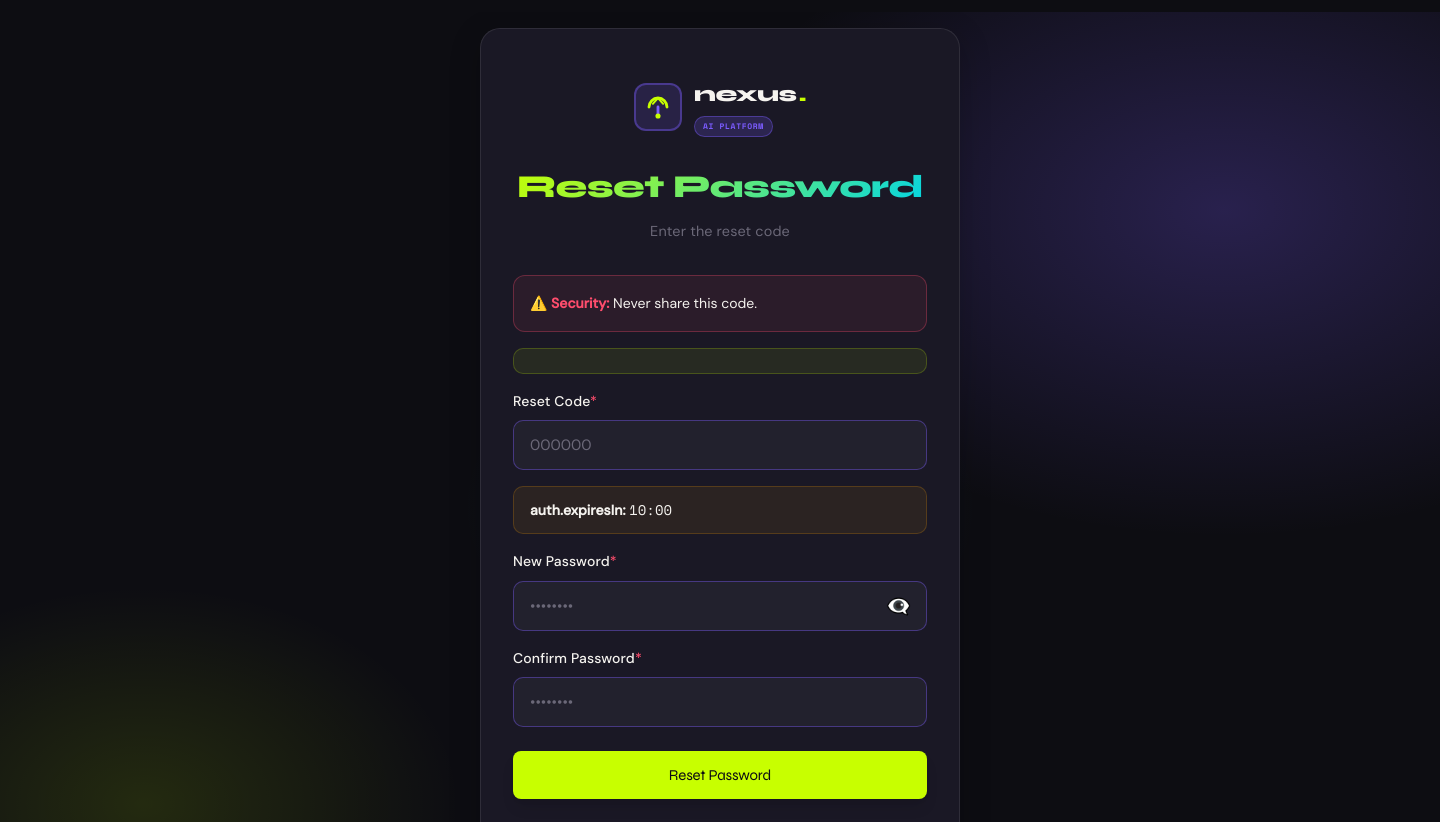
Test case: ResetPasswordPage › displays error for invalid code format
Type "12345" into the field labelled "Reset Code*" at (720, 445), box [513,420,927,470]
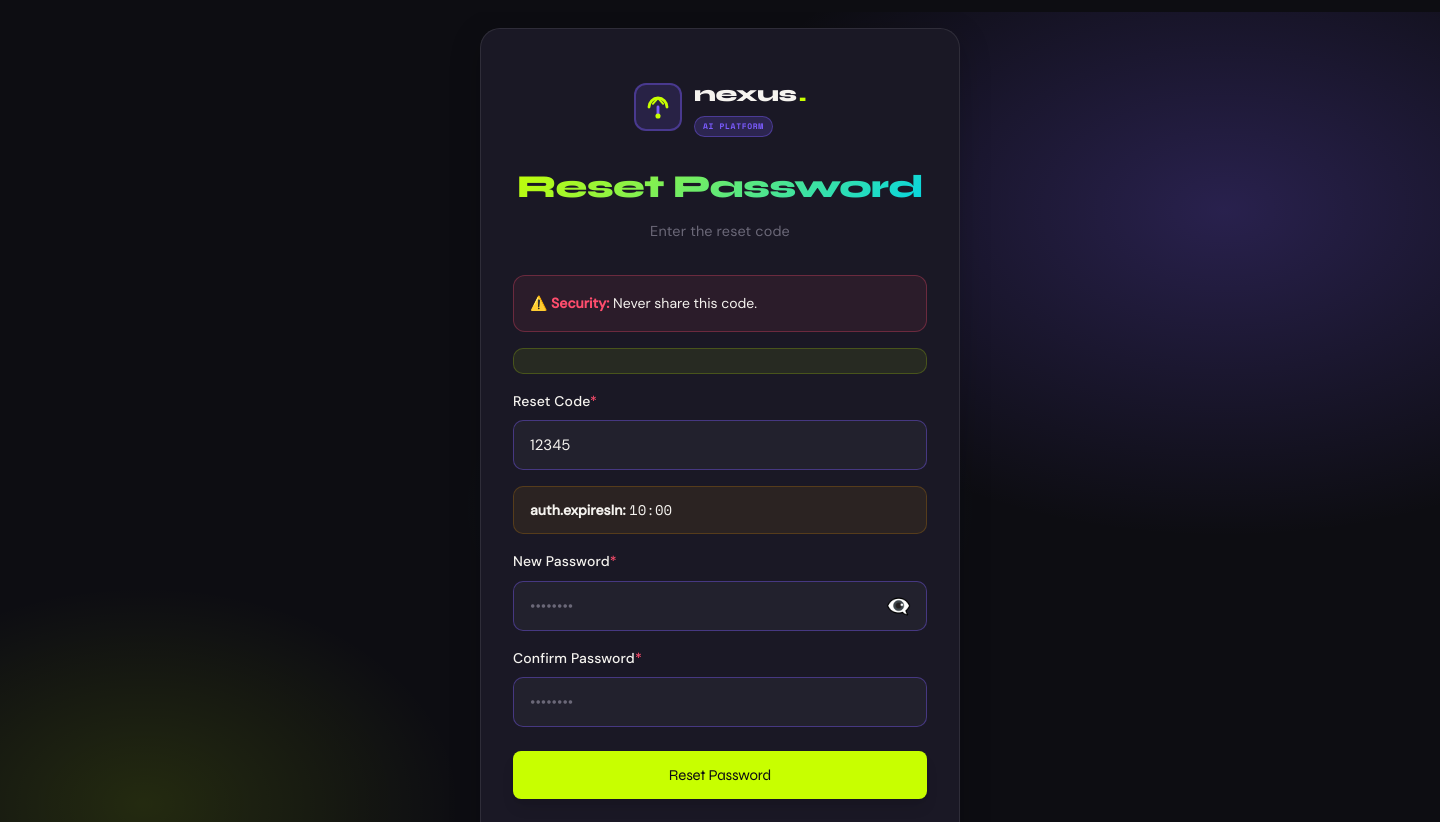
Type "NewPass123!" into the password field labelled "New Password*" at (720, 606), box [513,581,927,631]
(page scrolled)
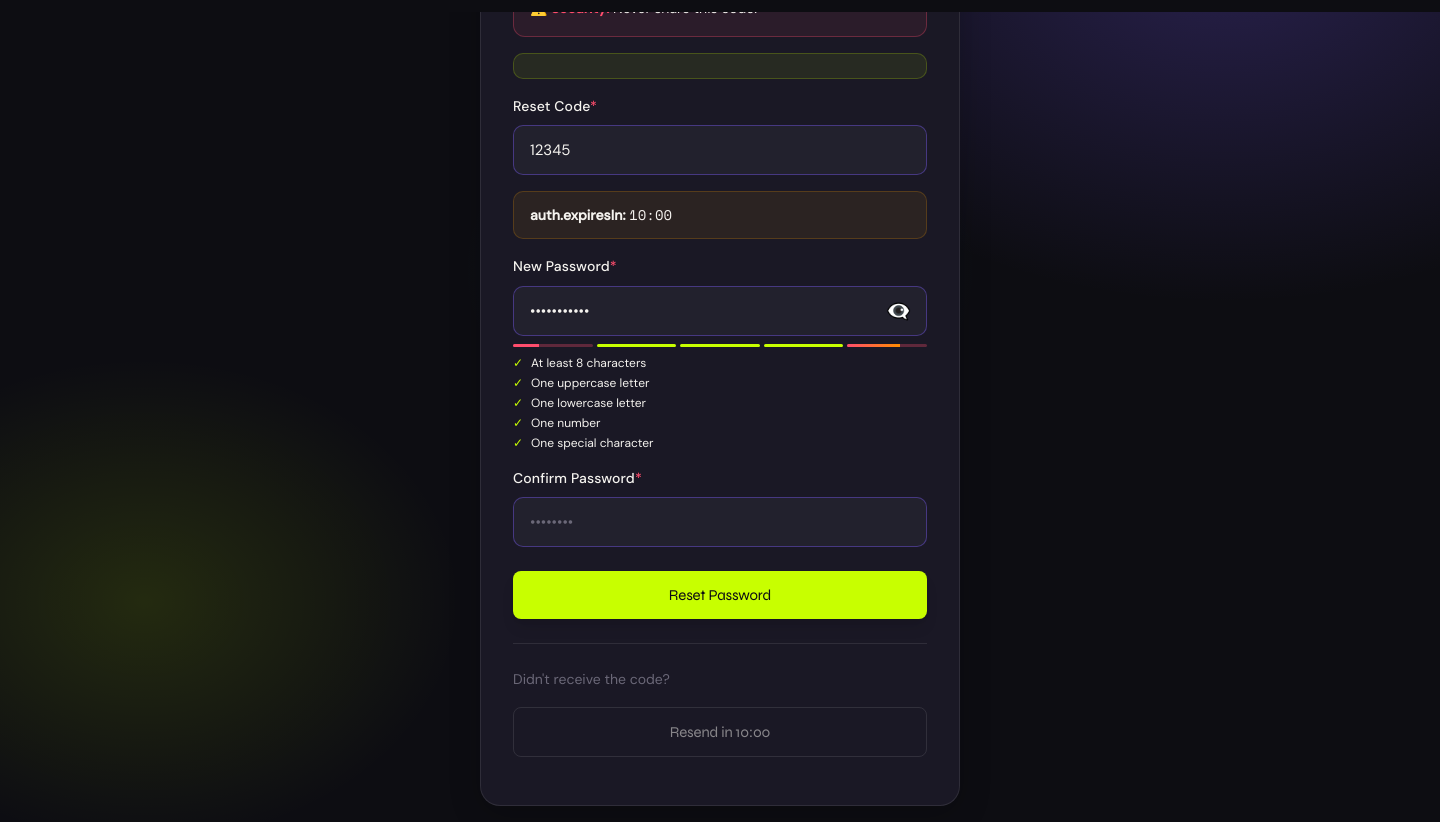
Type "NewPass123!" into the password field labelled "Confirm Password*" at (720, 522), box [513,497,927,547]
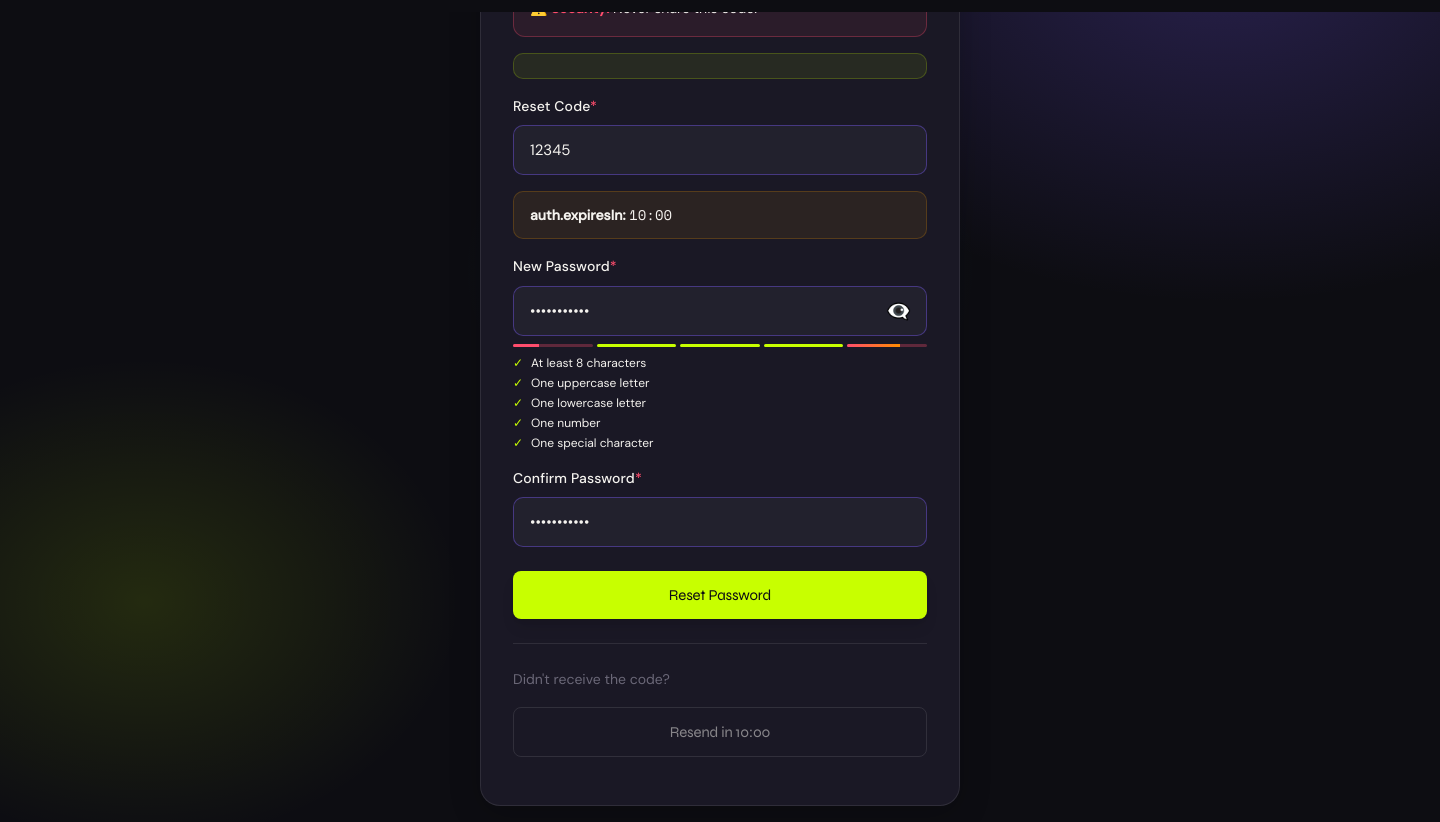
Click the button "Reset Password" at (720, 595), box [513,571,927,619]
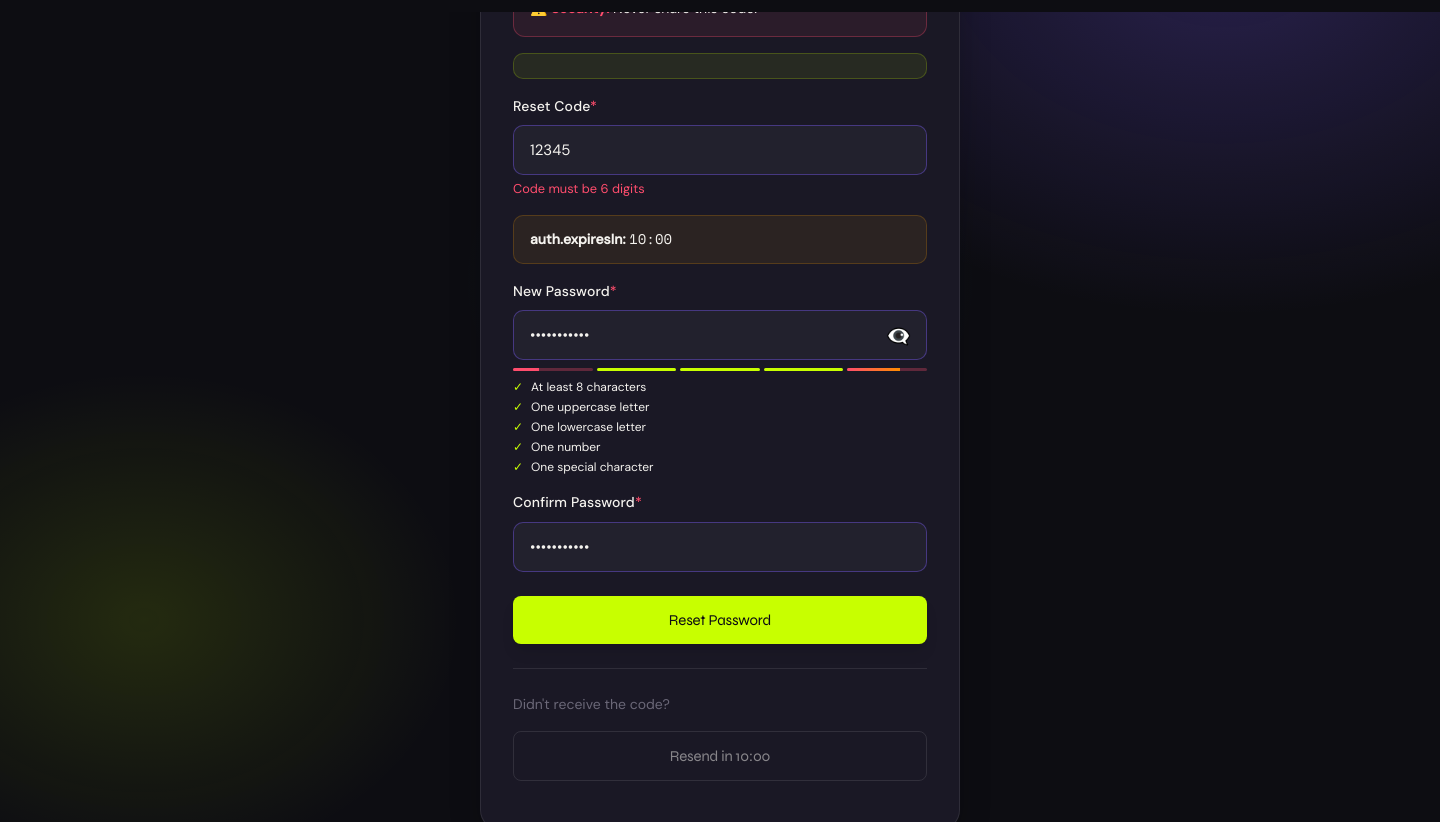
Expected: the text "Code must be 6 digits" is shown, [513,180,645,197]
